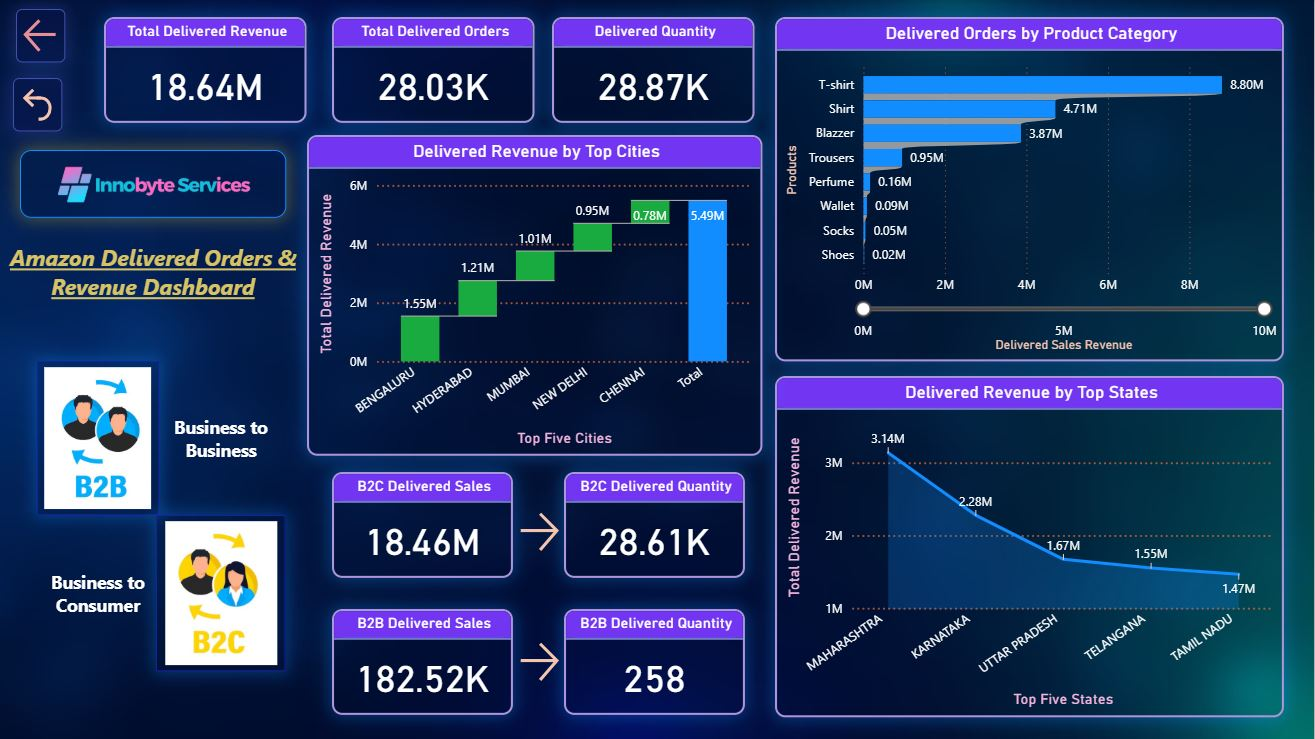

Layout of this report page (visuals, bound fields, positions):
{"tool":"powerbi","page":{"name":"Delivered Orders & Business Model Split","canvas":[1280,720],"ordinal":2},"visuals":[{"type":"barChart","title":"Delivered Orders by Product Category","fields":{"Category":["Amazon Sale Report.Category"],"Y":["Amazon Sale Report.Delivered Sales"]},"box":[756.1,17.5,495.2,334.9],"z":0},{"type":"card","title":"Total Delivered Revenue","fields":{"Values":["Amazon Sale Report.Delivered Sales"]},"box":[102.7,17.5,197.2,102.7],"z":1000},{"type":"card","title":"Total Delivered Orders","fields":{"Values":["Amazon Sale Report.Delivered Orders"]},"box":[324.6,17.5,197.2,102.7],"z":2000},{"type":"card","title":" Delivered Quantity","fields":{"Values":["Amazon Sale Report.Delivered Quantity"]},"box":[539.3,17.5,197.2,102.7],"z":3000},{"type":"areaChart","title":"Delivered Revenue by Top States","fields":{"Category":["Amazon Sale Report.ship-state"],"Y":["Amazon Sale Report.Delivered Sales"]},"box":[756.1,366.7,495.2,331.8],"z":4000},{"type":"waterfallChart","title":"Delivered Revenue by Top Cities","fields":{"Y":["Amazon Sale Report.Delivered Sales"],"Category":["Amazon Sale Report.ship-city"]},"box":[300.5,132.3,442.6,312.2],"z":5000},{"type":"card","title":"B2B Delivered Sales","fields":{"Values":["Amazon Sale Report.B2B Delivered Sales"]},"box":[324.6,593.8,175.7,102.7],"z":6000},{"type":"card","title":"B2C Delivered Sales","fields":{"Values":["Amazon Sale Report.B2C Delivered Quantity"]},"box":[324.6,460.2,175.7,102.7],"z":7000},{"type":"card","title":"B2B Delivered Quantity","fields":{"Values":["Amazon Sale Report.B2B Delivered Quantity"]},"box":[550.6,593.8,175.7,102.7],"z":8000},{"type":"card","title":"B2C Delivered Quantity","fields":{"Values":["Amazon Sale Report.B2C Delivered Quantity"]},"box":[550.7,460.2,175.7,102.7],"z":9000},{"type":"actionButton","box":[502.3,493.1,48.3,50.3],"z":10000},{"type":"actionButton","box":[502.3,619.5,48.3,50.3],"z":11000},{"type":"actionButton","box":[14.6,76.8,47.7,51.6],"z":12000},{"type":"image","box":[37.9,352.1,118.7,149.8],"z":13000},{"type":"image","box":[153.7,501.9,126.4,151.7],"z":14000},{"type":"actionButton","box":[160.5,396.8,112.8,60.3],"z":15000},{"type":"actionButton","box":[40.9,547.6,112.8,60.3],"z":16000},{"type":"actionButton","box":[3.9,213,293.7,103.1],"z":17000},{"type":"image","box":[21.4,146.9,258.7,66.1],"z":18000},{"type":"actionButton","box":[17.5,9.7,47.7,51.6],"z":19000}]}

Visuals, with their boxes in screenshot pixels (x1, y1, x2, y2), scaled from the page's 1280x720 canvas onto the 1315x739 screenshot:
"Delivered Orders by Product Category" barChart: region(777, 18, 1286, 362)
"Total Delivered Revenue" card: region(106, 18, 308, 123)
"Total Delivered Orders" card: region(333, 18, 536, 123)
" Delivered Quantity" card: region(554, 18, 757, 123)
"Delivered Revenue by Top States" areaChart: region(777, 376, 1286, 717)
"Delivered Revenue by Top Cities" waterfallChart: region(309, 136, 763, 456)
"B2B Delivered Sales" card: region(333, 609, 514, 715)
"B2C Delivered Sales" card: region(333, 472, 514, 578)
"B2B Delivered Quantity" card: region(566, 609, 746, 715)
"B2C Delivered Quantity" card: region(566, 472, 746, 578)
actionButton: region(516, 506, 566, 558)
actionButton: region(516, 636, 566, 687)
actionButton: region(15, 79, 64, 132)
image: region(39, 361, 161, 515)
image: region(158, 515, 288, 671)
actionButton: region(165, 407, 281, 469)
actionButton: region(42, 562, 158, 624)
actionButton: region(4, 219, 306, 324)
image: region(22, 151, 288, 219)
actionButton: region(18, 10, 67, 63)
